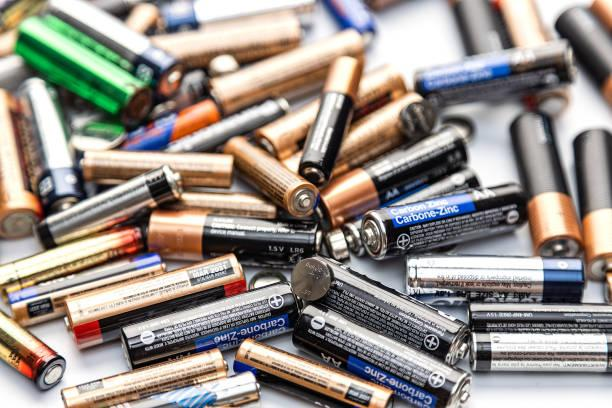battery: (397, 23, 578, 108), (46, 257, 280, 321), (288, 50, 382, 195), (348, 184, 527, 253), (491, 115, 574, 255), (393, 248, 568, 301), (466, 330, 612, 376), (456, 295, 612, 327)
